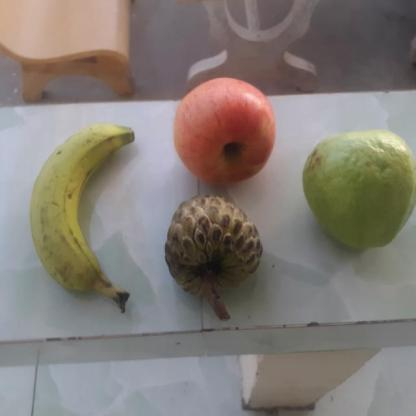annona: (166, 196, 269, 304)
apple: (33, 124, 139, 300)
guava: (307, 134, 416, 250)
pear: (170, 77, 282, 185)
